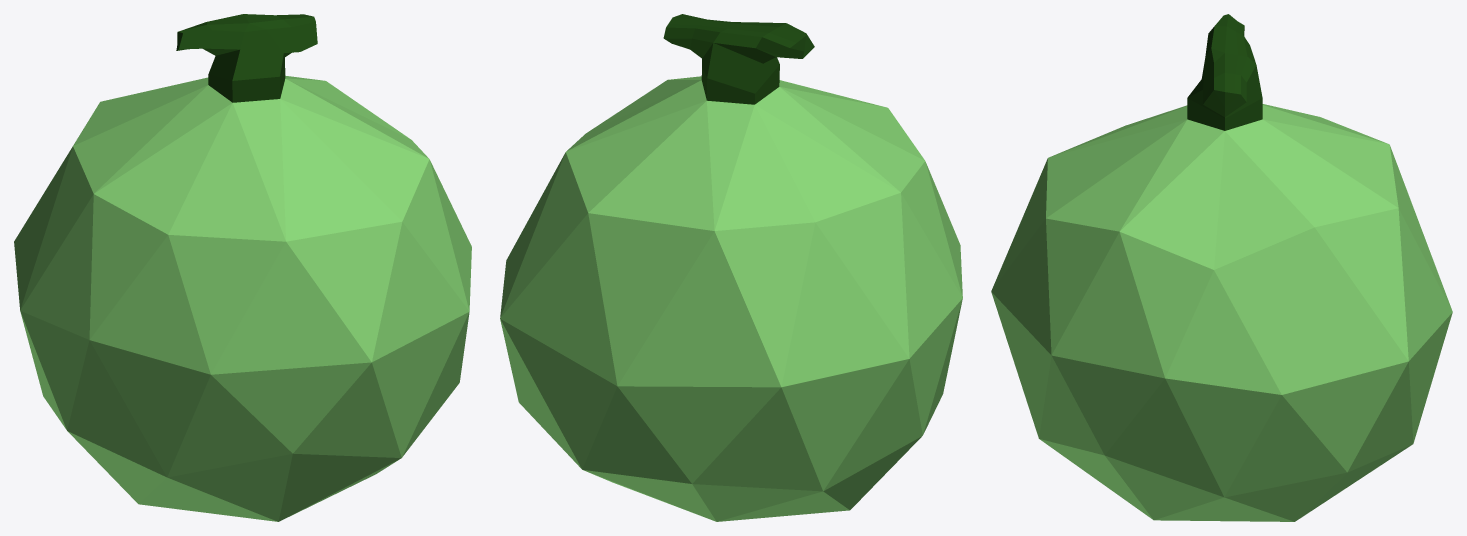
3 views of the same model, side by side, from view 1: azimuth 30°, elevation 25°; view 2: azimuth 150°, elevation 25°; view 3: azimuth 270°, elevation 25° (orthographic). The views are drawn at different scales.
Visible parts, largest first — view 1: melon_01; view 2: melon_01; view 3: melon_01.
Part boxes in pixels (x1=…): melon_01: x1=14, y1=14, x2=471, y2=521; melon_01: x1=500, y1=14, x2=962, y2=521; melon_01: x1=991, y1=14, x2=1452, y2=521.
Size of the model in its own units: 189 by 224 by 198.
